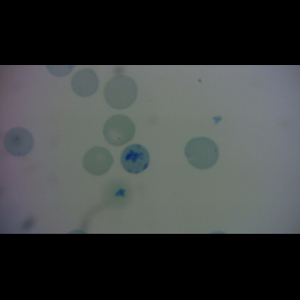aggregate reticulocyte: (119, 143, 151, 175)
erythrocyte: (102, 74, 138, 110), (81, 146, 115, 177), (70, 68, 100, 98)
punctate reticulocyte: (101, 113, 137, 148), (184, 136, 220, 170), (3, 127, 35, 157)
